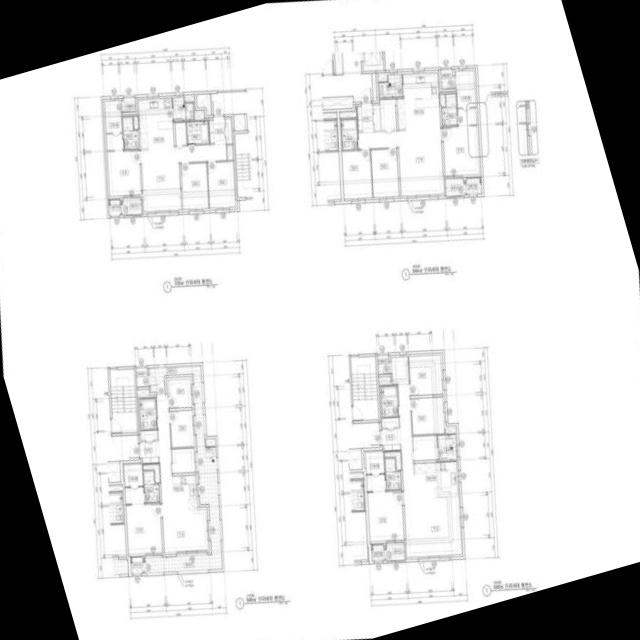background: (0, 0, 640, 640)
space_balconi: (142, 365, 221, 573), (378, 74, 402, 97), (436, 434, 456, 460), (172, 97, 193, 120), (384, 542, 404, 560), (120, 197, 141, 214), (445, 178, 465, 195)
space_bedroom: (366, 490, 403, 541), (125, 503, 162, 553), (442, 125, 478, 175), (106, 149, 140, 196), (341, 149, 372, 198), (408, 354, 442, 395), (370, 148, 398, 197), (180, 162, 208, 209), (410, 396, 444, 434), (207, 161, 235, 207), (169, 410, 193, 447), (167, 378, 191, 408)
space_dressroom: (455, 70, 476, 124), (104, 100, 122, 150), (364, 451, 384, 491), (123, 464, 143, 503)
space_front: (208, 115, 225, 144), (356, 102, 373, 131), (138, 440, 159, 463), (379, 428, 400, 451)
space_kitchen: (396, 72, 440, 129), (137, 97, 173, 148), (412, 461, 457, 498), (171, 475, 196, 510)
space_living_room: (391, 356, 460, 556), (155, 395, 207, 551), (357, 126, 443, 195), (140, 143, 226, 211)
space_other: (412, 435, 437, 460), (171, 447, 194, 473), (379, 98, 395, 130), (196, 93, 210, 115), (142, 464, 159, 482), (384, 451, 400, 469), (174, 121, 186, 145), (440, 68, 454, 88), (377, 355, 390, 373), (135, 367, 147, 386), (233, 113, 245, 130), (121, 97, 135, 111), (140, 429, 157, 440), (373, 104, 380, 130), (224, 118, 231, 143), (381, 417, 398, 427), (371, 73, 376, 100), (339, 111, 355, 118), (136, 388, 149, 395), (226, 144, 232, 159), (378, 376, 390, 382), (194, 111, 203, 119), (132, 116, 138, 128), (439, 93, 444, 106), (205, 438, 214, 445), (378, 74, 386, 81), (445, 427, 454, 433), (183, 96, 193, 101)
space_outdoor_room: (465, 177, 481, 194), (370, 544, 383, 561), (129, 557, 142, 573), (107, 199, 120, 215)
space_staircase: (350, 355, 378, 420), (109, 368, 136, 433)
space_toilet: (121, 116, 138, 149), (139, 397, 156, 429), (384, 457, 400, 490), (186, 120, 208, 144), (380, 385, 397, 416), (340, 118, 357, 149), (143, 470, 159, 502), (441, 93, 456, 125)
